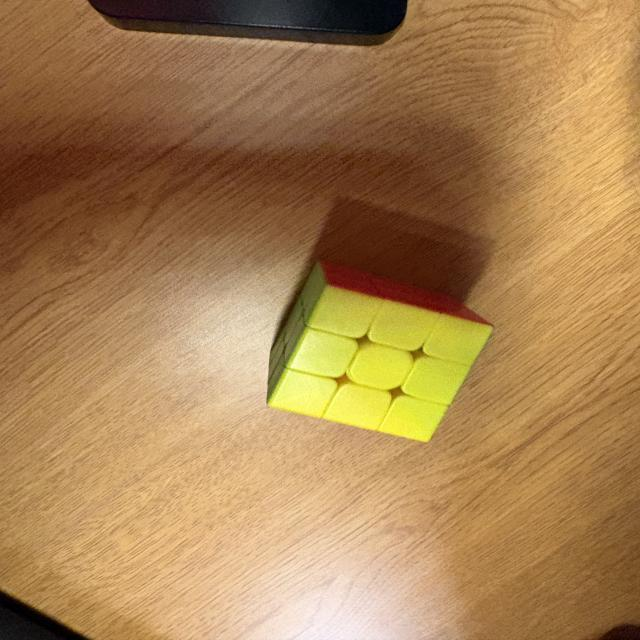Rubiks Cube: (269, 261, 495, 444)
